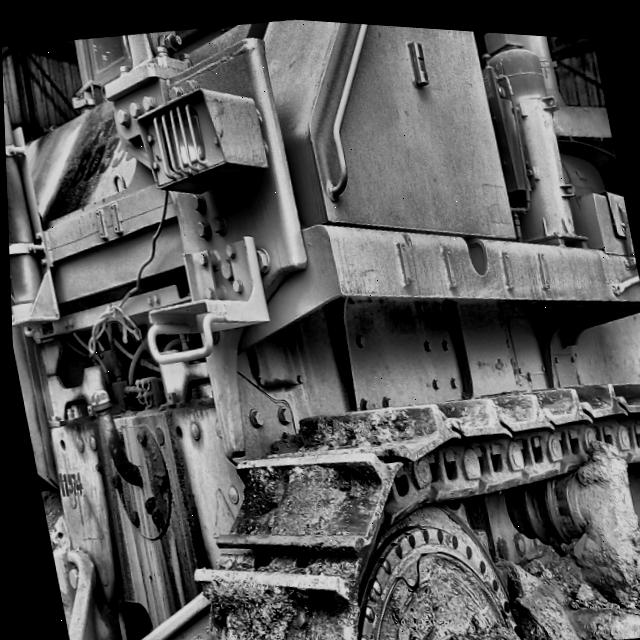buldozerpayloadergrader: (1, 15, 640, 640)
